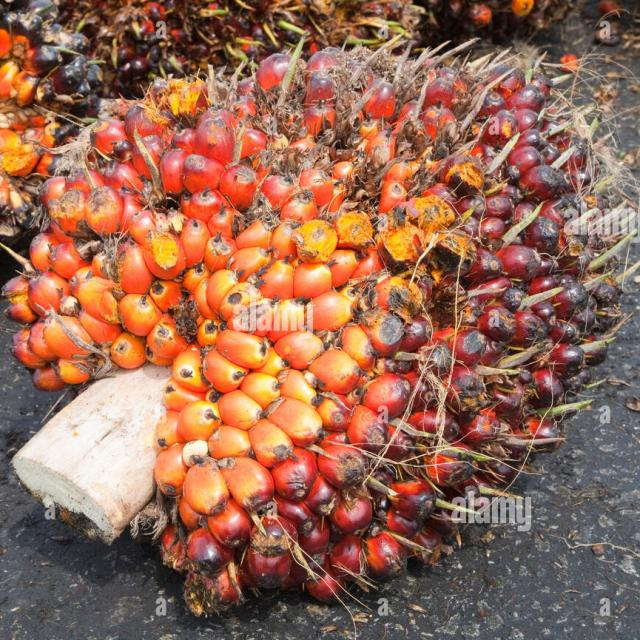FFB: (32, 43, 618, 600)
